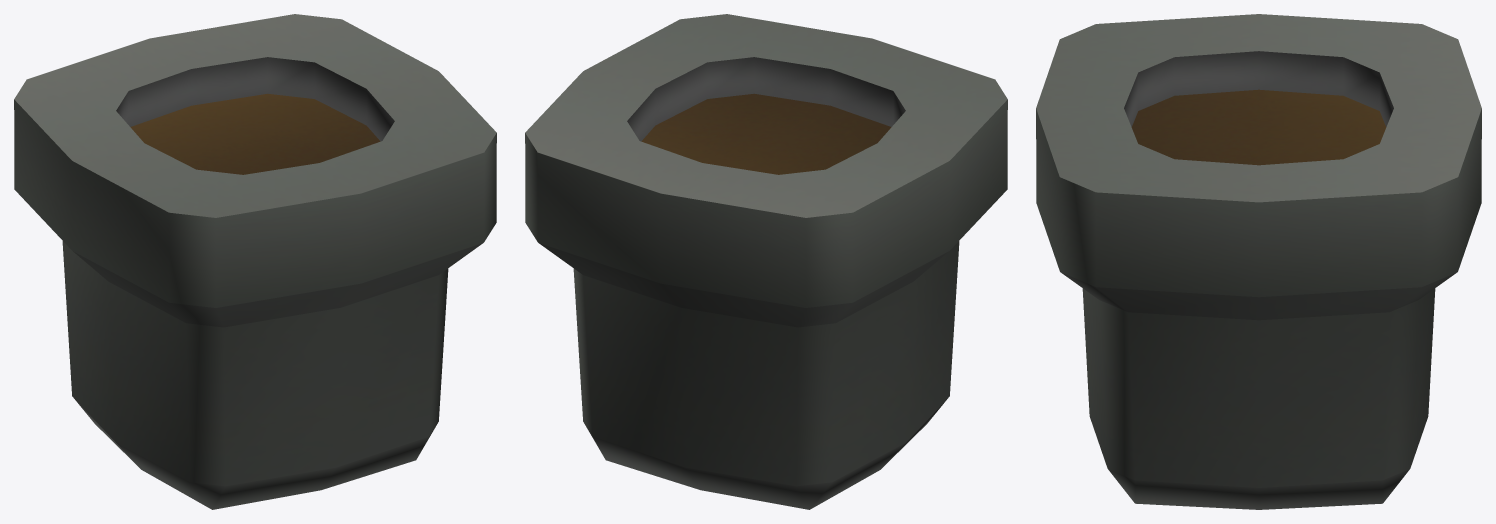
Rendered from flower_pot_small_grey.fbx.
The picture shows the model from 3 angles, left to right: view 1: azimuth 30°, elevation 25°; view 2: azimuth 150°, elevation 25°; view 3: azimuth 270°, elevation 25°; orthographic projection. The views are drawn at different scales.
Parts seen in each view (by area): view 1: flower_pot_small_grey; view 2: flower_pot_small_grey; view 3: flower_pot_small_grey.
Boxes of the visible parts, x1,y1,x2,y2 form: flower_pot_small_grey: [14, 14, 496, 509]; flower_pot_small_grey: [525, 14, 1007, 509]; flower_pot_small_grey: [1036, 14, 1481, 509].
Size of the model in its own units: 29.43 by 25 by 29.43.
